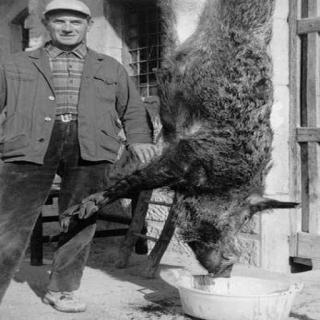Pig: (149, 0, 320, 294)
